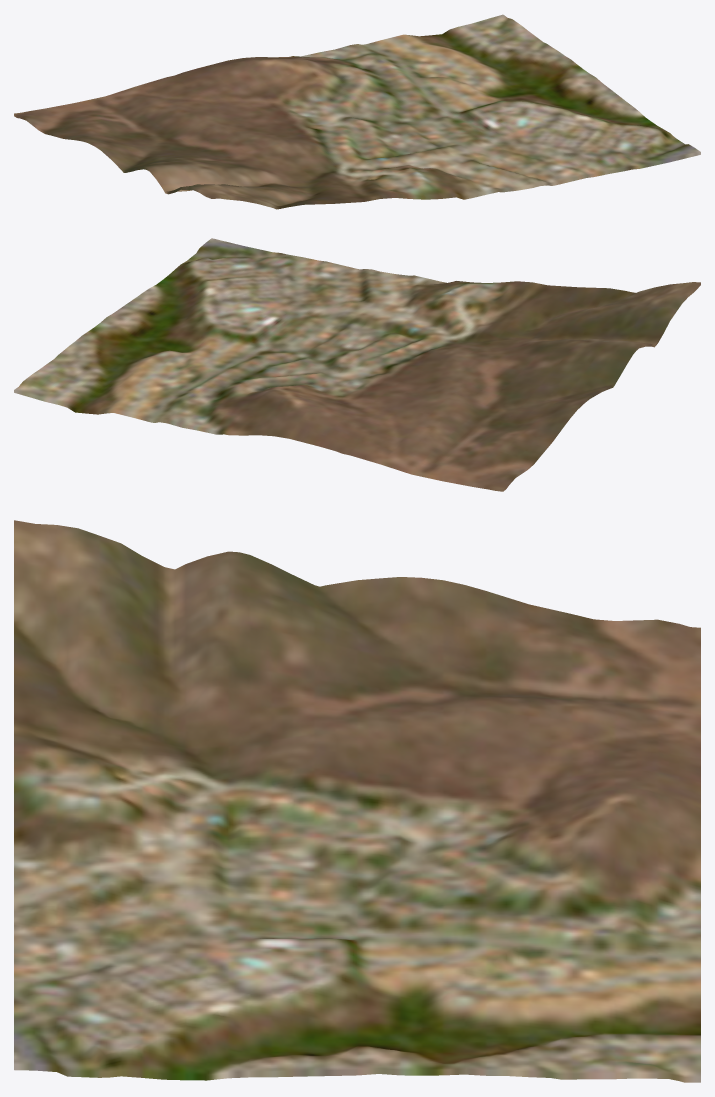
The model's file is terrain_r1_c6_lod1.glb.
The picture shows the model from 3 angles, top to bottom: view 1: azimuth 30°, elevation 25°; view 2: azimuth 150°, elevation 25°; view 3: azimuth 270°, elevation 25°; orthographic projection. The views are drawn at different scales.
Parts seen in each view (by area): view 1: terrain_r1_c6_lod1; view 2: terrain_r1_c6_lod1; view 3: terrain_r1_c6_lod1.
Part boxes in pixels (left/top/right/bottom): terrain_r1_c6_lod1: left=14, top=14, right=700, bottom=209; terrain_r1_c6_lod1: left=14, top=238, right=700, bottom=491; terrain_r1_c6_lod1: left=14, top=520, right=700, bottom=1082.
Bounding box in the file's own units: 1125 × 197 × 787.
1 material, 1 textured.
